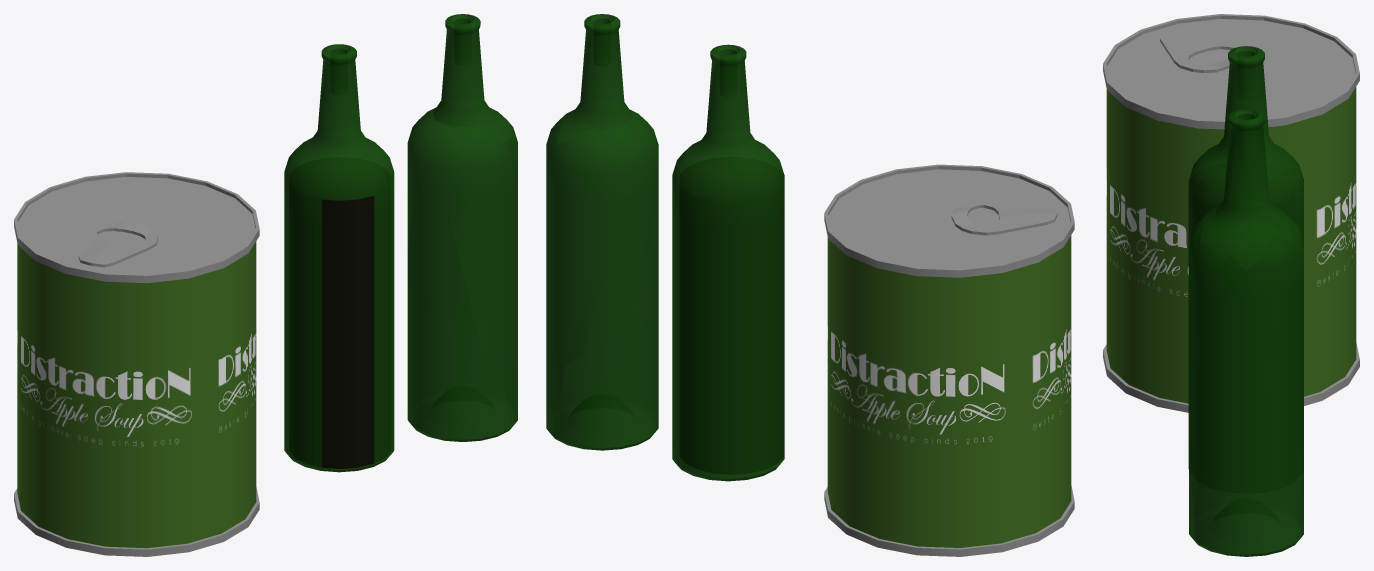
The model's file is SM_UsableItems.FBX.
3 views of the same model, side by side, from view 1: azimuth 30°, elevation 25°; view 2: azimuth 150°, elevation 25°; view 3: azimuth 270°, elevation 25° (orthographic). The views are drawn at different scales.
Visible parts, largest first — view 1: Blik, Cylinder001, WholeBottle, Mid001, Bottom001, Top001, Lipje; view 2: Blik, WholeBottle, Cylinder001, Mid001, Bottom001, Top001, Lipje; view 3: Blik, Mid001, Top001, WholeBottle, Cylinder001, Lipje, Bottom001.
Boxes of the visible parts, <box> form: Blik: <box>14,172,259,556</box>; Cylinder001: <box>290,157,390,468</box>; WholeBottle: <box>284,44,394,472</box>; Mid001: <box>407,107,517,428</box>; Bottom001: <box>407,185,511,441</box>; Top001: <box>433,14,517,175</box>; Lipje: <box>78,222,157,267</box>; Blik: <box>824,164,1074,556</box>; WholeBottle: <box>672,44,784,481</box>; Cylinder001: <box>680,157,783,474</box>; Mid001: <box>546,109,658,437</box>; Bottom001: <box>553,189,658,450</box>; Top001: <box>551,14,632,143</box>; Lipje: <box>951,199,1057,235</box>; Blik: <box>1103,14,1359,412</box>; Mid001: <box>1189,207,1303,556</box>; Top001: <box>1200,109,1292,293</box>; WholeBottle: <box>1189,46,1303,241</box>; Cylinder001: <box>1188,163,1294,468</box>; Lipje: <box>1160,27,1245,72</box>; Bottom001: <box>1189,456,1303,544</box>.
Bounding box in the file's own units: 63.22 × 49.53 × 27.56.
Materials: 4 (1 with a texture image).
